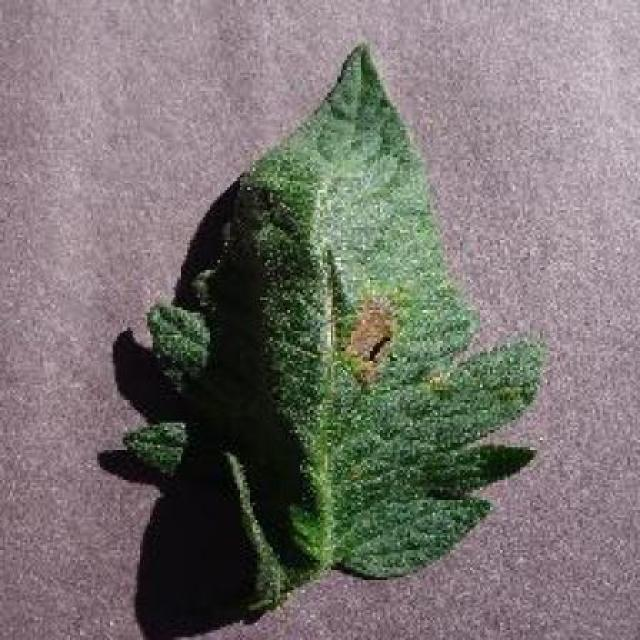Early Blight: (129, 48, 540, 612)
